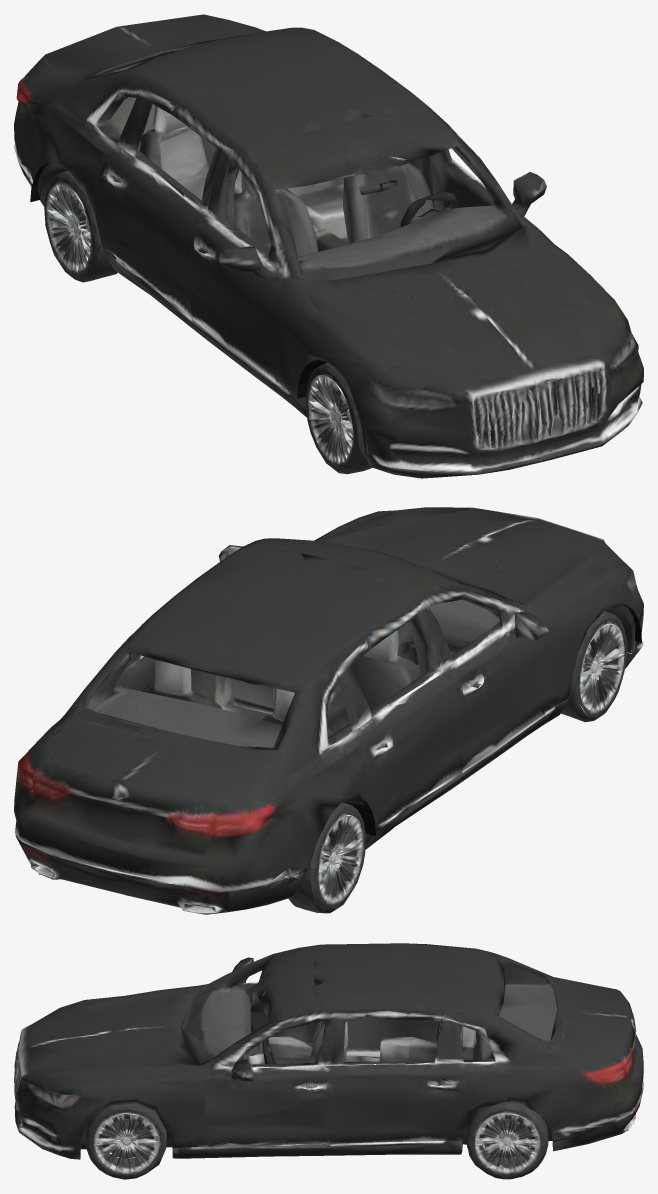
The model's file is car_lux_lod.glb.
3 renders of one model, top to bottom at view 1: azimuth 30°, elevation 25°; view 2: azimuth 150°, elevation 25°; view 3: azimuth 270°, elevation 25°, orthographic. The views are drawn at different scales.
Parts seen in each view (by area): view 1: body, wheel_FR, wheel_RR; view 2: body, wheel_RR, wheel_FR; view 3: body, wheel_RL, wheel_FL.
Boxes of the visible parts, x1,y1,x2,y2 form: body: [14, 14, 643, 478]; wheel_FR: [305, 362, 372, 474]; wheel_RR: [40, 166, 101, 282]; body: [14, 507, 643, 914]; wheel_RR: [288, 802, 365, 913]; wheel_FR: [577, 607, 632, 720]; body: [14, 943, 643, 1172]; wheel_RL: [466, 1101, 552, 1179]; wheel_FL: [80, 1103, 163, 1179].
Bounding box in the file's own units: 2.31 × 1.52 × 5.3.
Materials: 2 (1 with a texture image).
